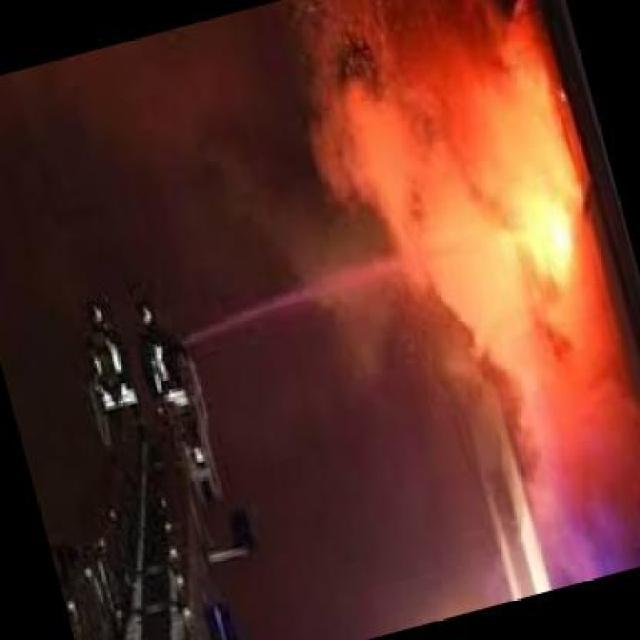Fire: (277, 10, 640, 572)
Smoke: (28, 86, 300, 247), (198, 227, 390, 386)
